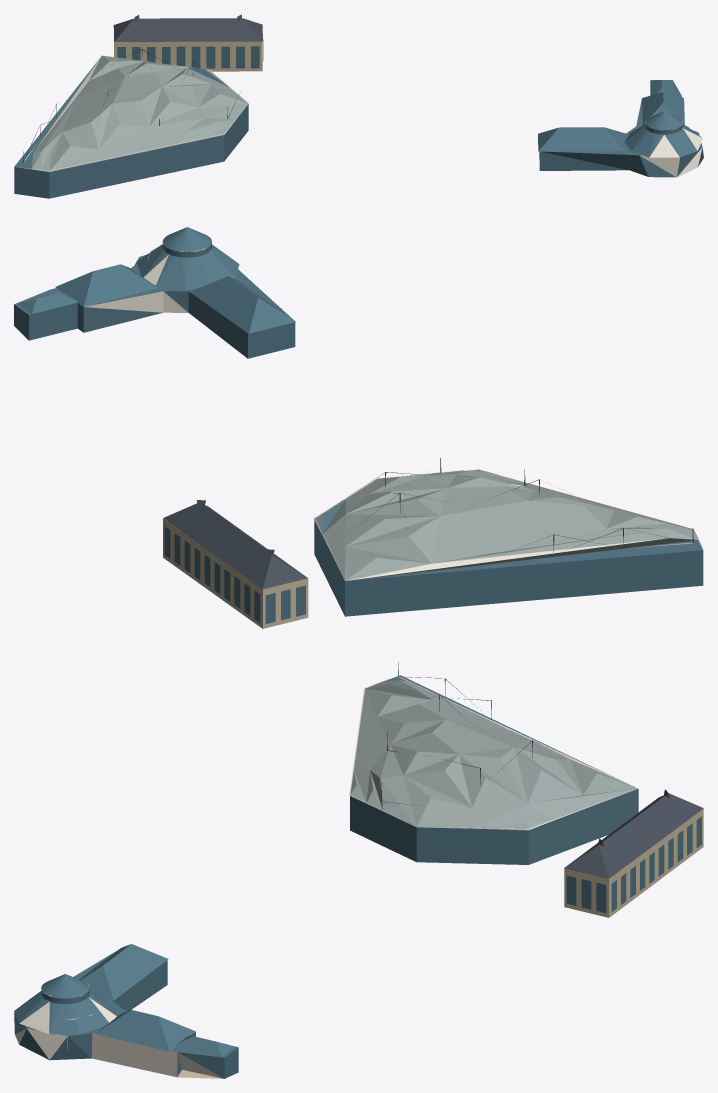
File: hortus-greenhouses.lod2.glb
The picture shows the model from 3 angles, top to bottom: view 1: azimuth 30°, elevation 25°; view 2: azimuth 150°, elevation 25°; view 3: azimuth 270°, elevation 25°; orthographic projection. The views are drawn at different scales.
Parts seen in each view (by area): view 1: lod2; view 2: lod2; view 3: lod2.
Boxes of the visible parts, x1,y1,x2,y2 form: lod2: [14, 14, 703, 198]; lod2: [14, 227, 703, 628]; lod2: [14, 662, 703, 1078].
Size of the model in its own units: 133 by 13.98 by 104.
